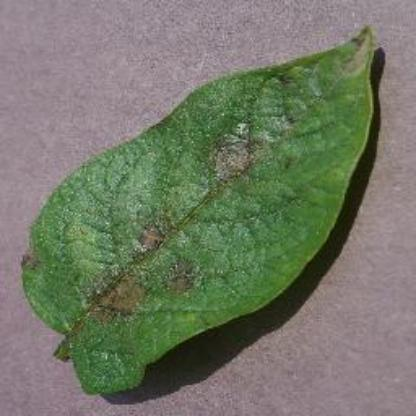Late-Blight: (14, 25, 386, 396)
